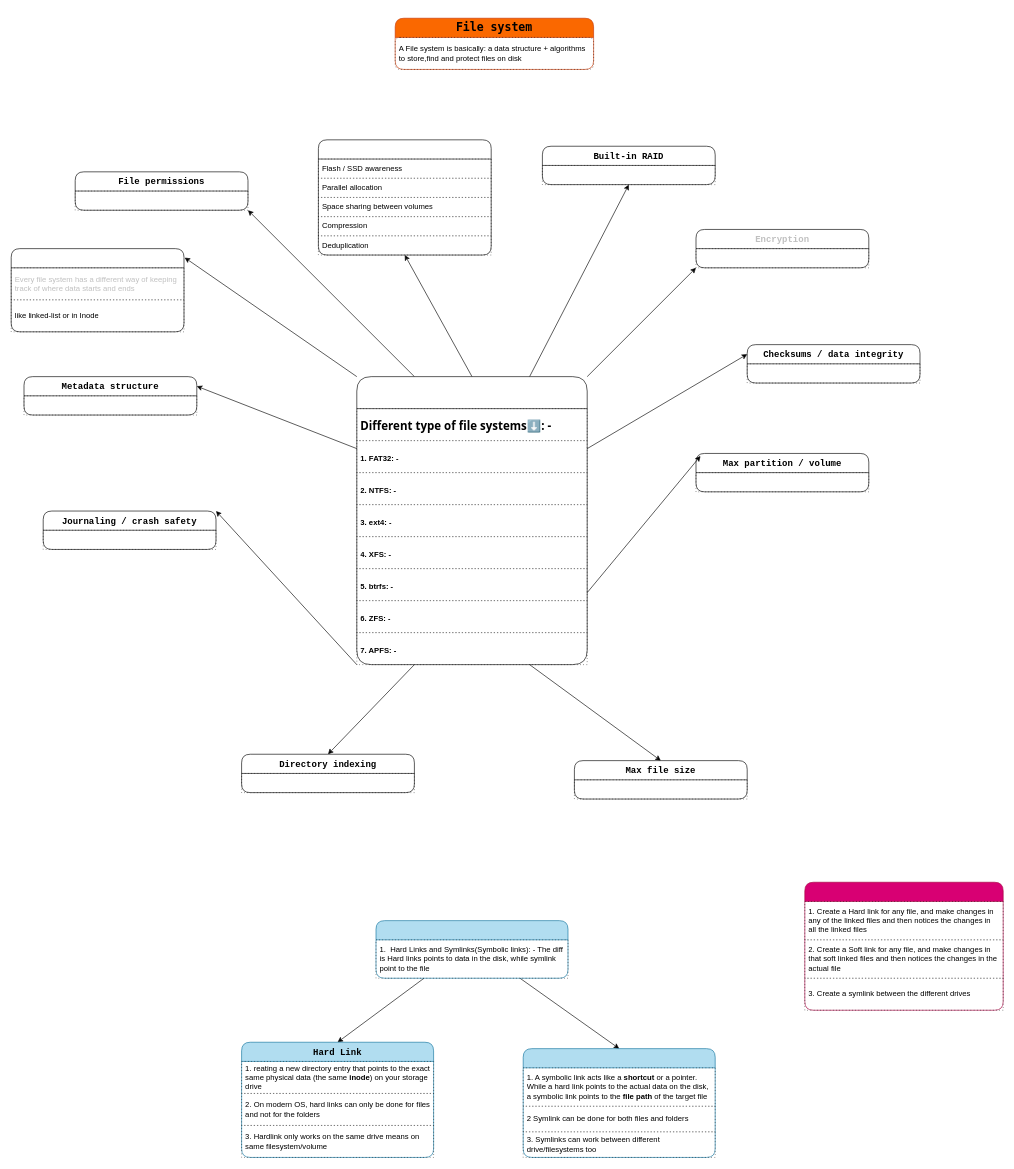
Some shapes in this 1014 by 1169 pixel diagram are drawn without their labels. Here are the shapes that lost their labels. From the top down, the box of each, then its label:
(318, 139, 491, 255): Other Properteies
(11, 248, 184, 332): Allocation method
(356, 376, 587, 665): Different properties of different file system
(375, 920, 568, 978): Linking files
(804, 882, 1003, 1010): Practicals to do for file system
(523, 1048, 715, 1157): Soft link
